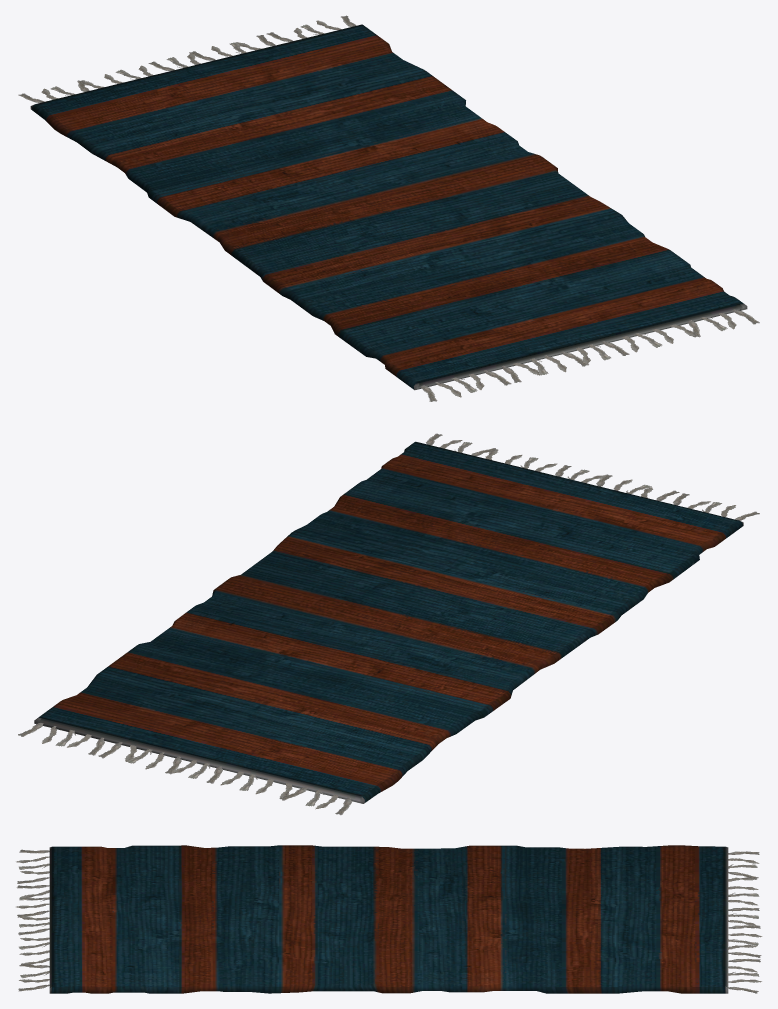
Rendered from carpet_rag_rug.dae.
3 renders of one model, top to bottom at view 1: azimuth 30°, elevation 25°; view 2: azimuth 150°, elevation 25°; view 3: azimuth 270°, elevation 25°, orthographic. The views are drawn at different scales.
Parts seen in each view (by area): view 1: polySurface47; view 2: polySurface47; view 3: polySurface47.
Boxes of the visible parts, x1=… form: polySurface47: x1=18, y1=15, x2=759, y2=401; polySurface47: x1=18, y1=433, x2=759, y2=815; polySurface47: x1=16, y1=845, x2=762, y2=993.
Bounding box in the file's own units: 1.02 × 0.0161 × 2.21.
